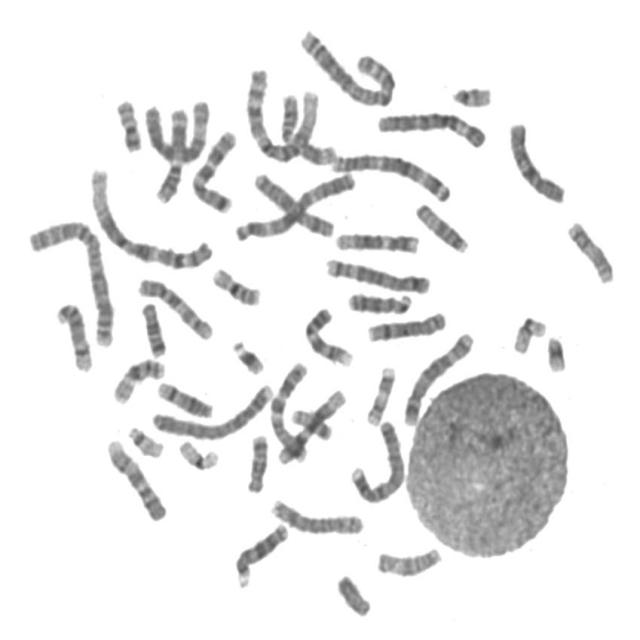A1: (84, 161, 216, 272), (240, 62, 337, 166)
A2: (22, 212, 116, 349), (294, 22, 397, 109)
A3: (232, 166, 357, 242), (324, 146, 453, 204)
B4: (147, 378, 276, 442), (345, 415, 407, 506)
B5: (398, 324, 477, 428), (320, 250, 433, 296)
C10: (132, 271, 215, 342), (503, 116, 568, 206)
C11: (276, 88, 338, 167), (150, 101, 191, 206)
C12: (273, 384, 348, 466), (329, 226, 422, 256)
C6: (372, 104, 488, 150), (140, 94, 212, 164)
C7: (265, 356, 310, 465), (186, 124, 239, 215)
C8: (266, 492, 366, 538), (362, 305, 448, 344)
C9: (102, 433, 168, 523), (299, 301, 355, 368)
D13: (229, 516, 290, 591), (343, 286, 414, 316)
D14: (51, 296, 94, 374), (152, 374, 216, 420)
D15: (411, 197, 470, 255), (372, 540, 444, 578)
E16: (107, 351, 167, 406), (207, 261, 263, 307)
E17: (562, 215, 617, 286), (361, 360, 397, 428)
E18: (135, 296, 168, 358), (241, 428, 270, 494)
F19: (507, 310, 549, 356), (174, 433, 222, 472)
F20: (111, 92, 143, 154), (287, 402, 333, 442)
G21: (227, 334, 266, 376), (542, 329, 568, 374)
G22: (123, 420, 165, 459), (447, 79, 494, 109)
X: (249, 166, 337, 239)
Y: (332, 568, 373, 618)
